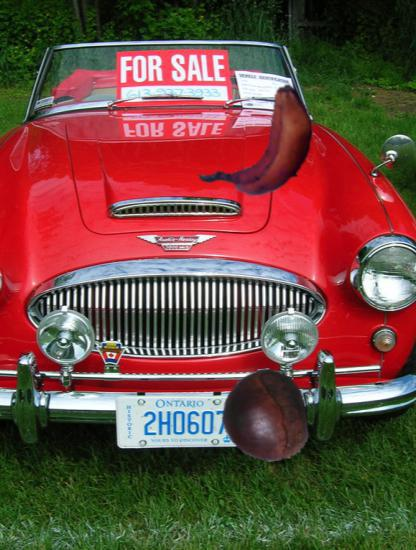Banana: (201, 85, 335, 219)
Chestnut: (218, 369, 311, 462)
